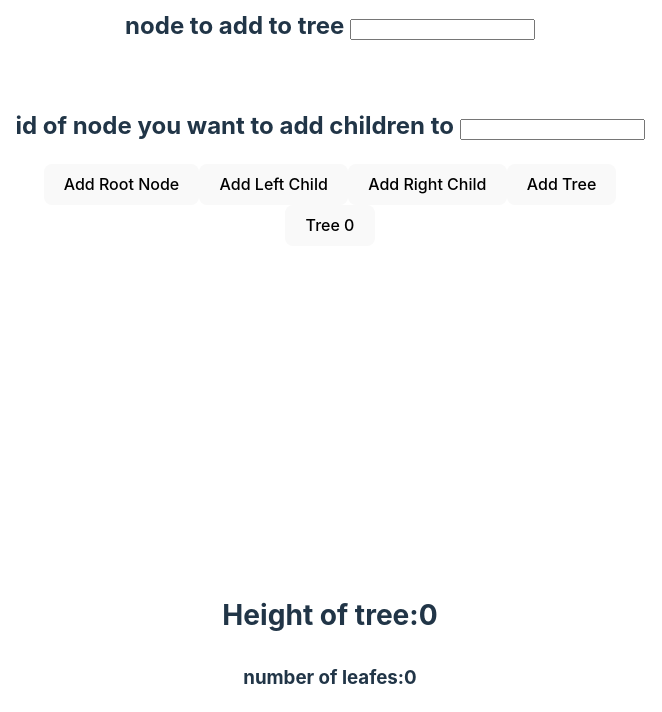
checks number of leafes › should return 1 leaf
The image size is (662, 712).
Click the button "Add Root Node" at (121, 184), box [44,164,199,205]
(page scrolled)
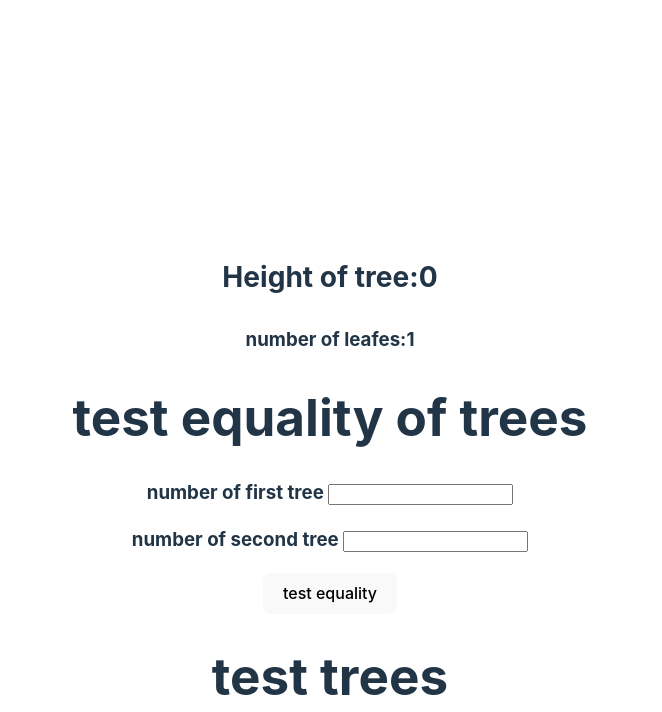
Expected: the heading "number of leafes:1" is shown, [246,328,414,351]
